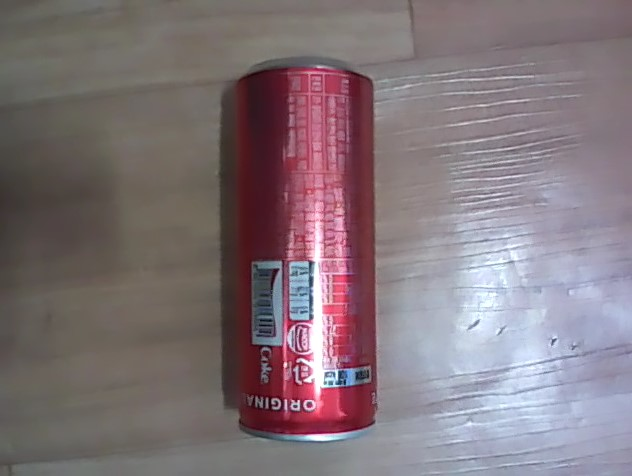Can: (214, 53, 383, 448)
